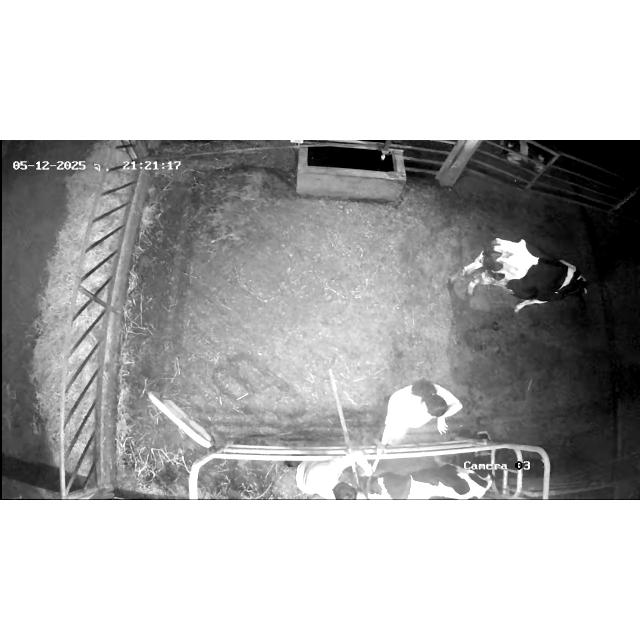stand: (445, 220, 605, 340)
